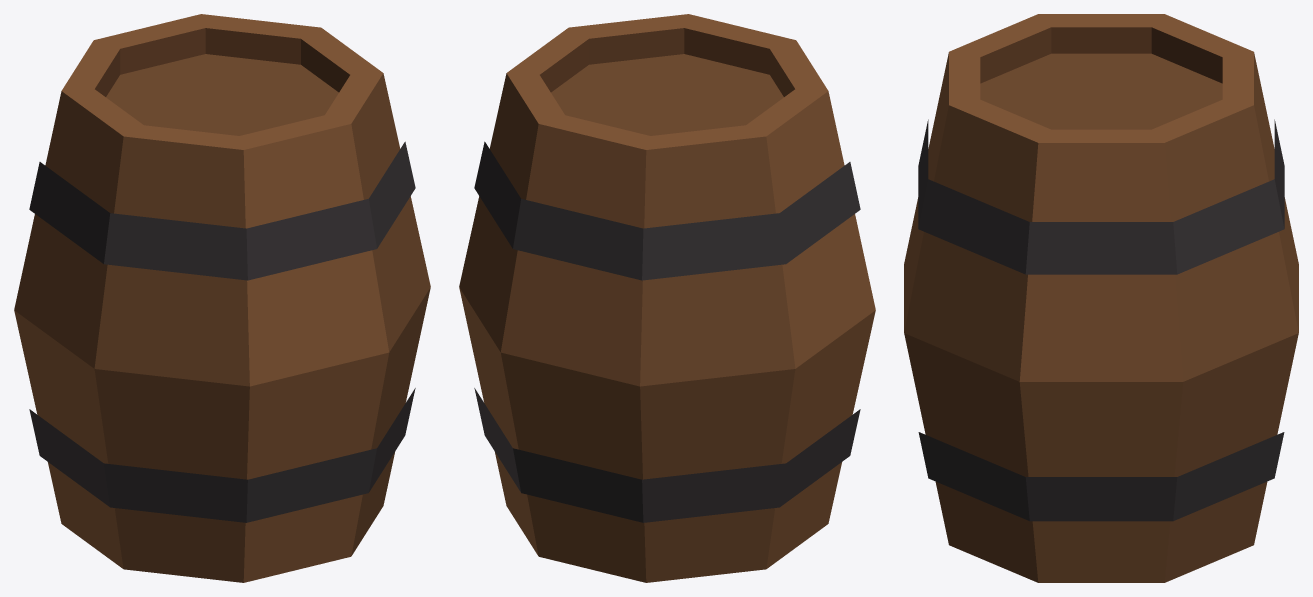
The model's file is barrel.glb.
The picture shows the model from 3 angles, left to right: view 1: azimuth 30°, elevation 25°; view 2: azimuth 150°, elevation 25°; view 3: azimuth 270°, elevation 25°; orthographic projection.
Parts seen in each view (by area): view 1: lit; view 2: lit; view 3: lit.
Part boxes in pixels (x1,y1,x2,y2): lit: (14,14,430,582); lit: (459,14,875,582); lit: (904,14,1298,582).
Size of the model in its own units: 0.813 by 1 by 0.813.
